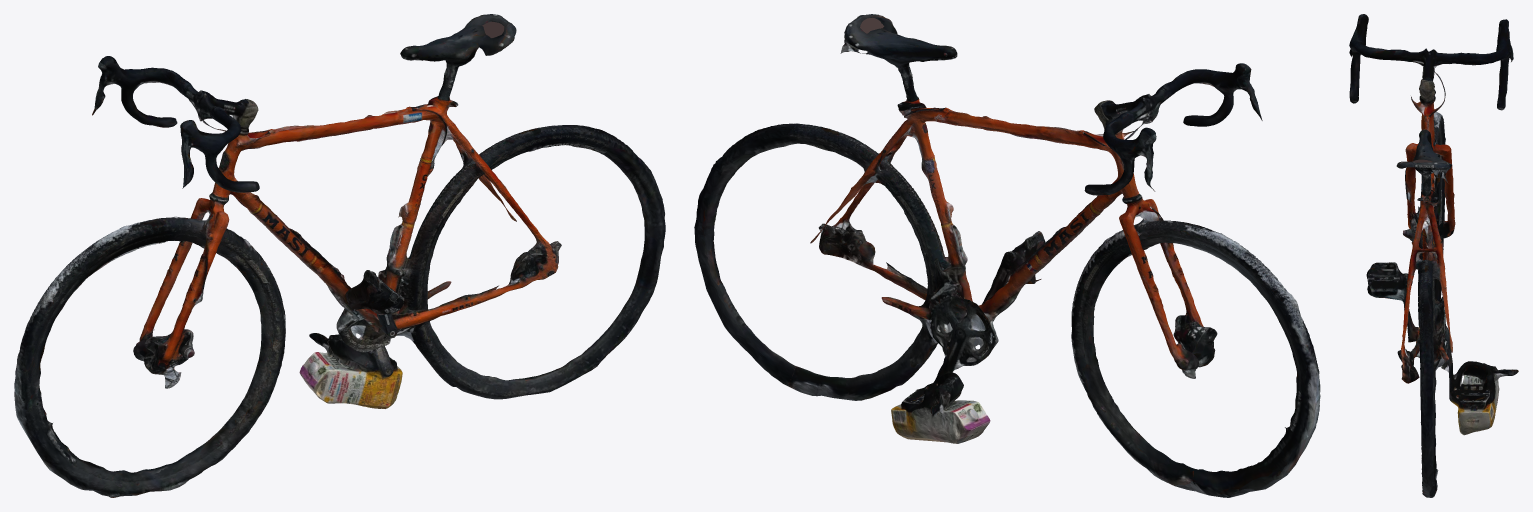
The model's file is basement_3_bike_3-transformed.glb.
3 renders of one model, left to right at view 1: azimuth 30°, elevation 25°; view 2: azimuth 150°, elevation 25°; view 3: azimuth 270°, elevation 25°, orthographic. The views are drawn at different scales.
Visible parts, largest first — view 1: bike; view 2: bike; view 3: bike.
Boxes of the visible parts, x1,y1,x2,y2 form: bike: (14, 14, 665, 497); bike: (694, 14, 1320, 497); bike: (1349, 14, 1518, 497).
Size of the model in its own units: 1.58 by 0.9533 by 0.4524.
Materials: 1 (1 with a texture image).
